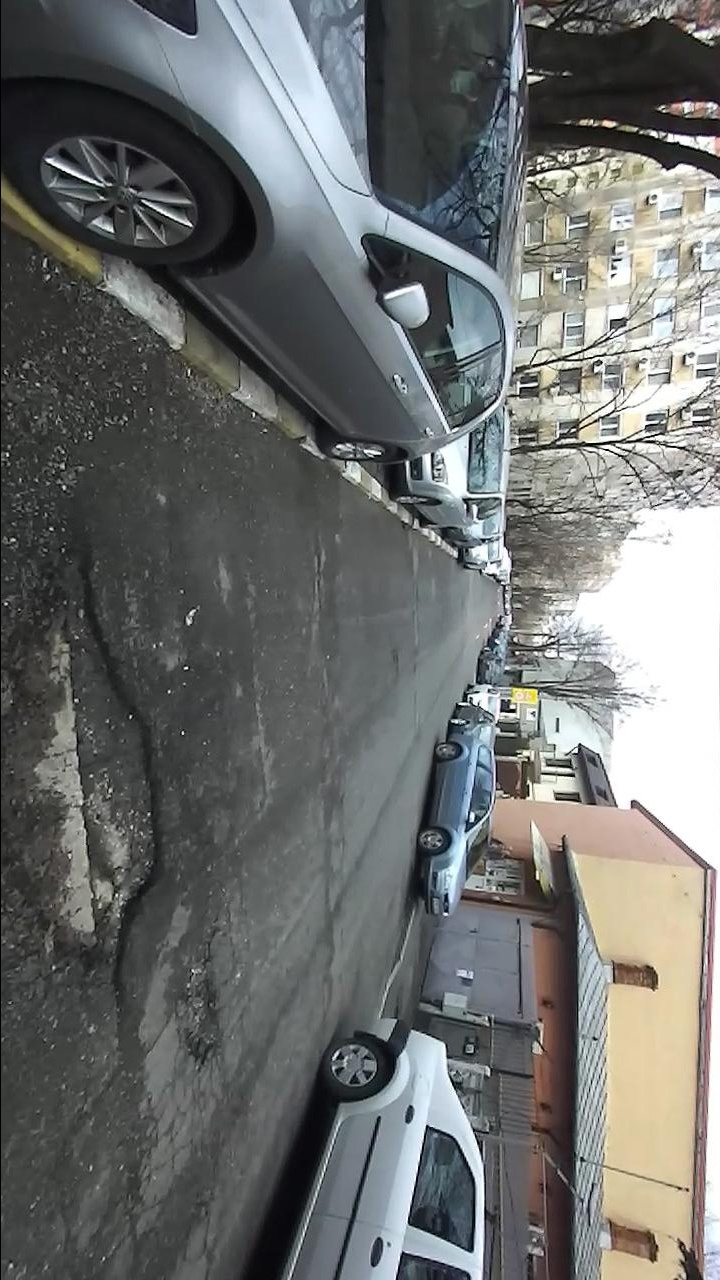pothole: (1, 532, 166, 1009), (169, 921, 232, 1076), (308, 543, 332, 620)
